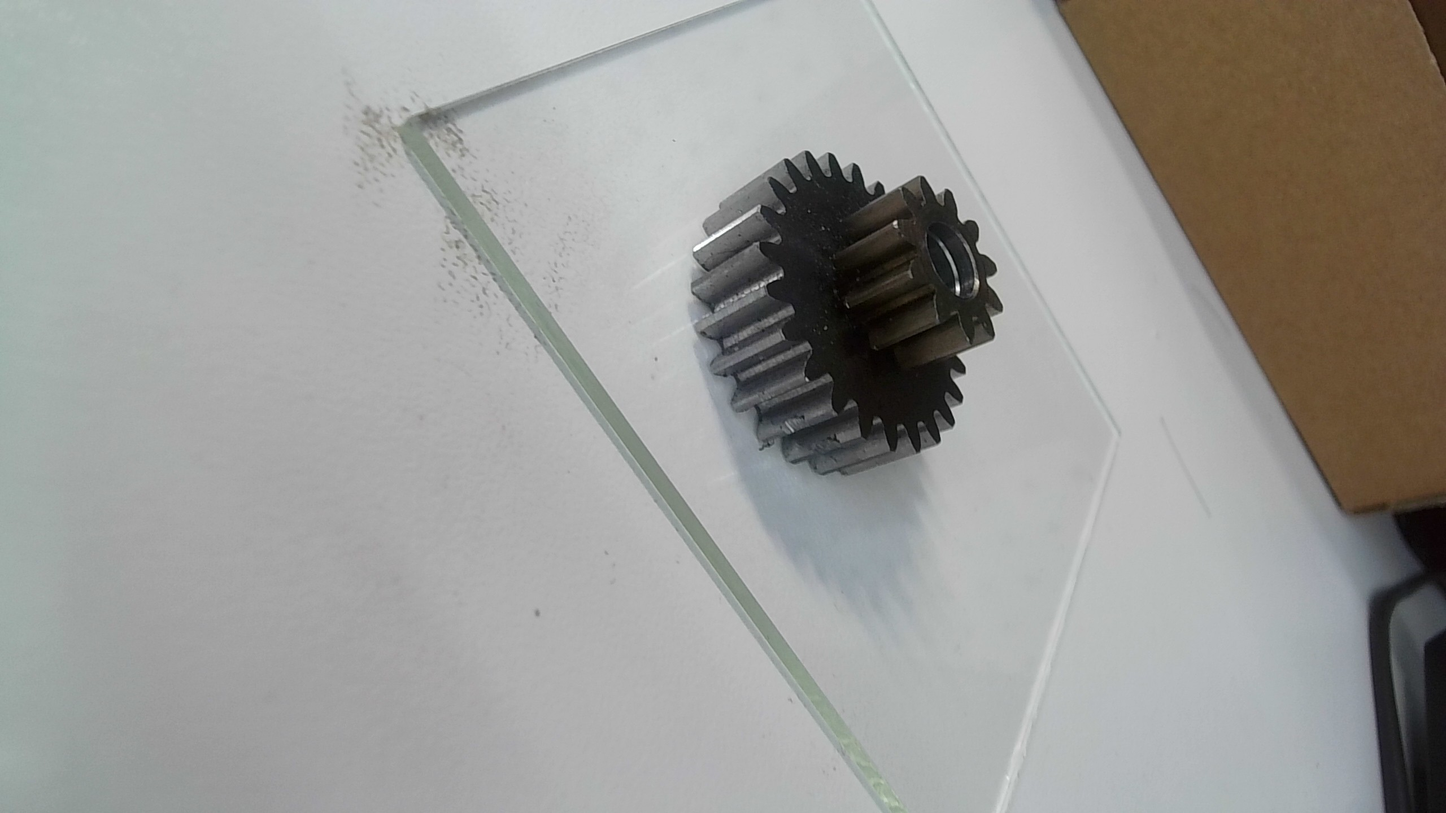gear: (690, 151, 1003, 478)
